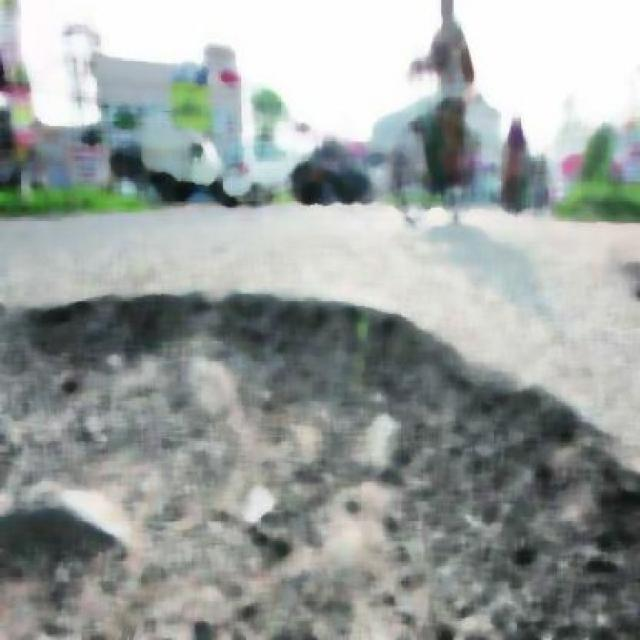Pothole: (27, 304, 538, 638)
